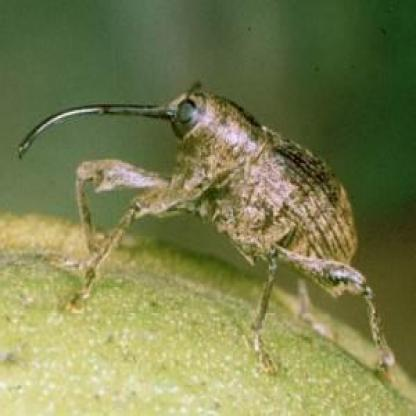rice-bug: (17, 87, 398, 372)
